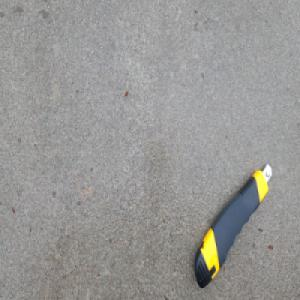Cutter: (193, 159, 273, 288)
